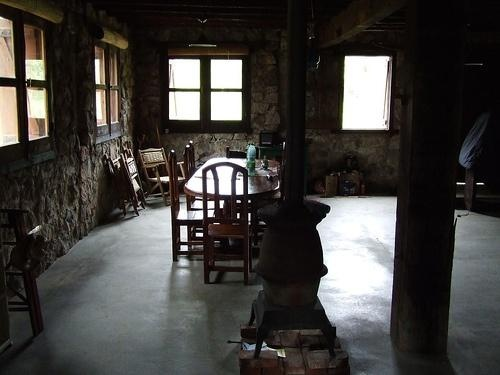chair: (203, 162, 251, 287), (167, 149, 217, 263), (183, 146, 228, 246), (139, 147, 188, 207), (225, 146, 262, 160), (189, 139, 197, 174)
diningtable: (185, 156, 283, 256)
